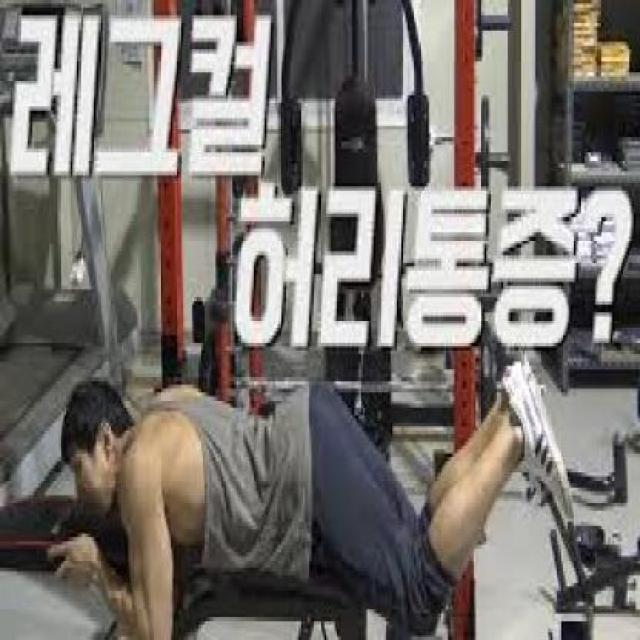reg curl machine: (5, 335, 583, 640)
